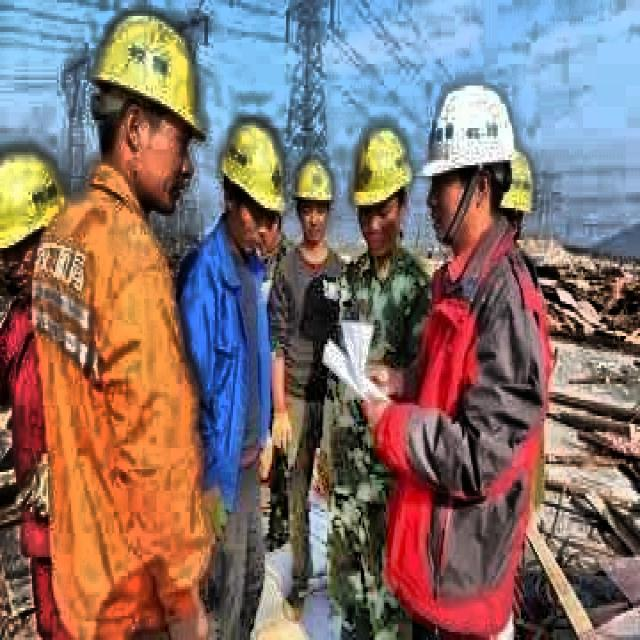helmet: (89, 8, 201, 213), (425, 77, 512, 248), (2, 144, 73, 301), (220, 123, 286, 253), (350, 123, 412, 253), (494, 144, 534, 248), (294, 154, 334, 250)
